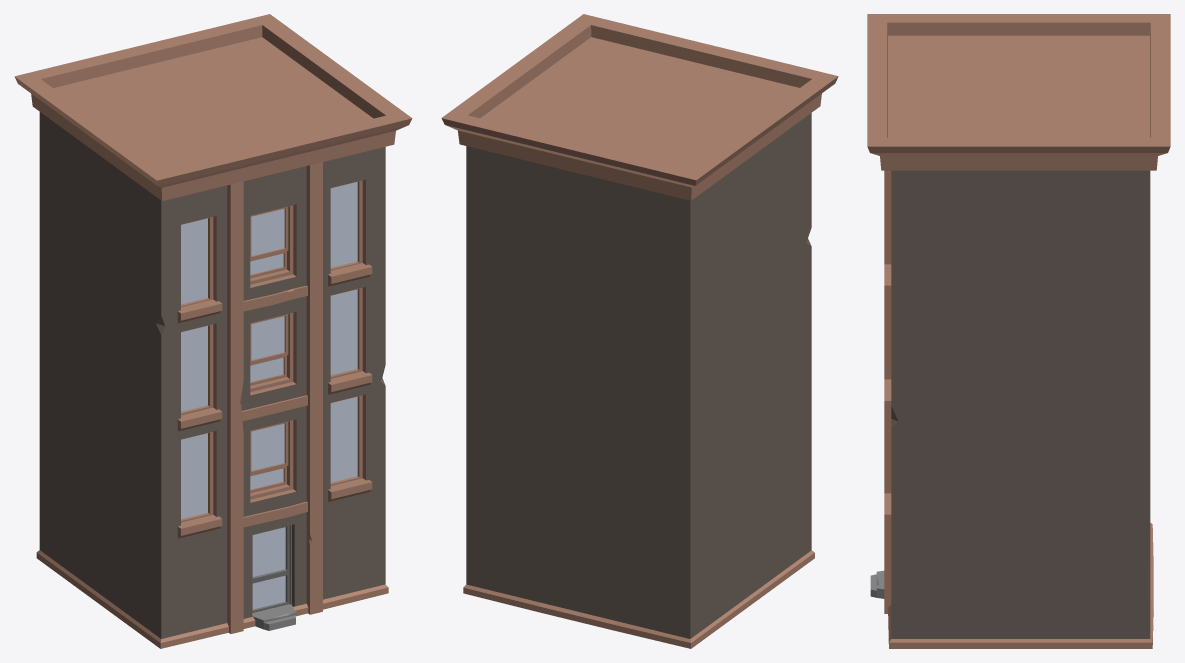
File: rootnode_003_intact.glb
The picture shows the model from 3 angles, left to right: view 1: azimuth 30°, elevation 25°; view 2: azimuth 150°, elevation 25°; view 3: azimuth 270°, elevation 25°; orthographic projection. The views are drawn at different scales.
Visible parts, largest first — view 1: BrownBuilding.001; view 2: BrownBuilding.001; view 3: BrownBuilding.001.
Boxes of the visible parts, bbox=[...] form: BrownBuilding.001: bbox=[14, 14, 412, 648]; BrownBuilding.001: bbox=[441, 14, 838, 648]; BrownBuilding.001: bbox=[867, 14, 1170, 648].
Bounding box in the file's own units: 0.6655 × 1.19 × 0.6431.
